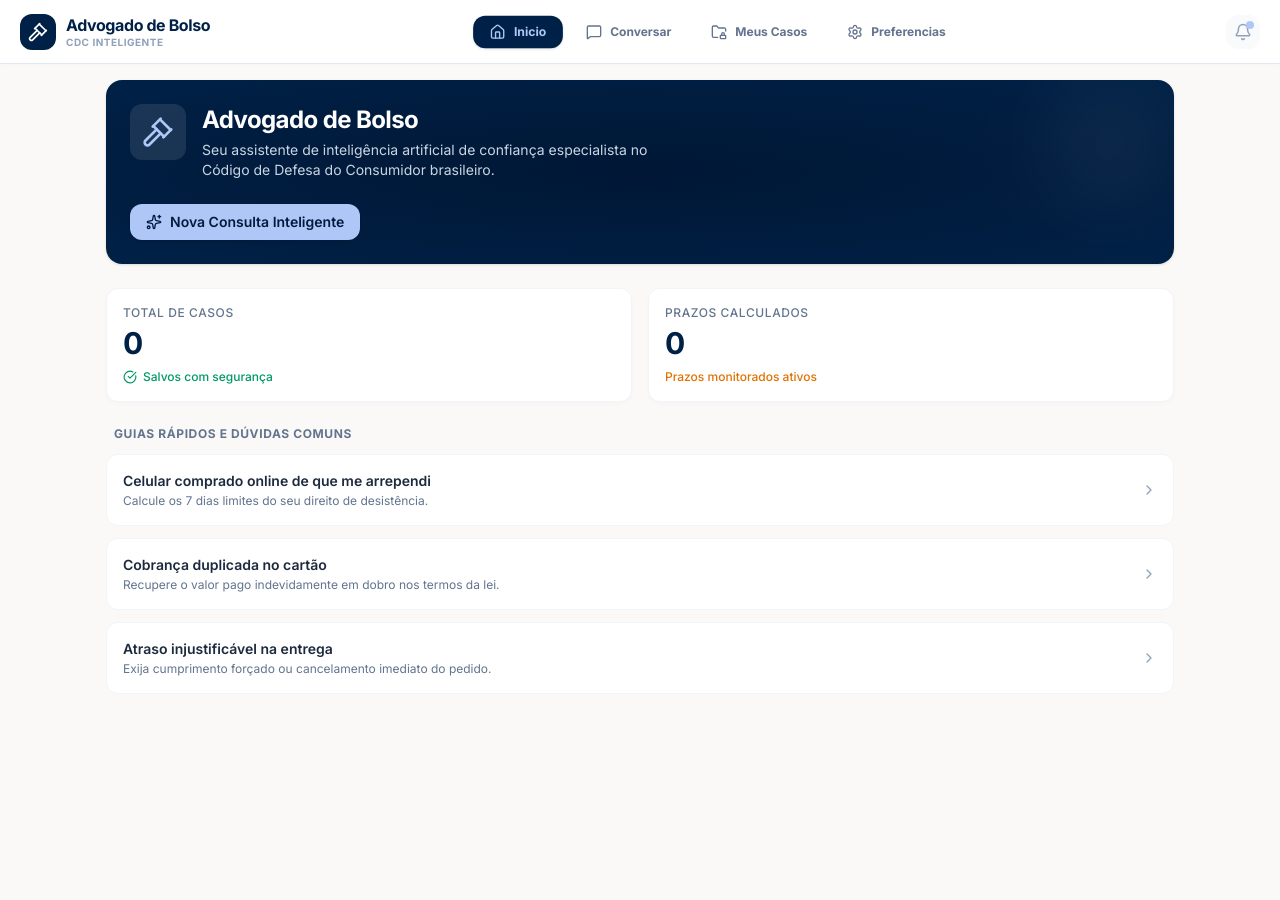
Test: App frontend integration › starting a quick-guide consultation while a real case is active creates a new session without mutating the active case
The image size is (1280, 900).
Click the button "Conversar": (629, 32) [570,16,687,48]
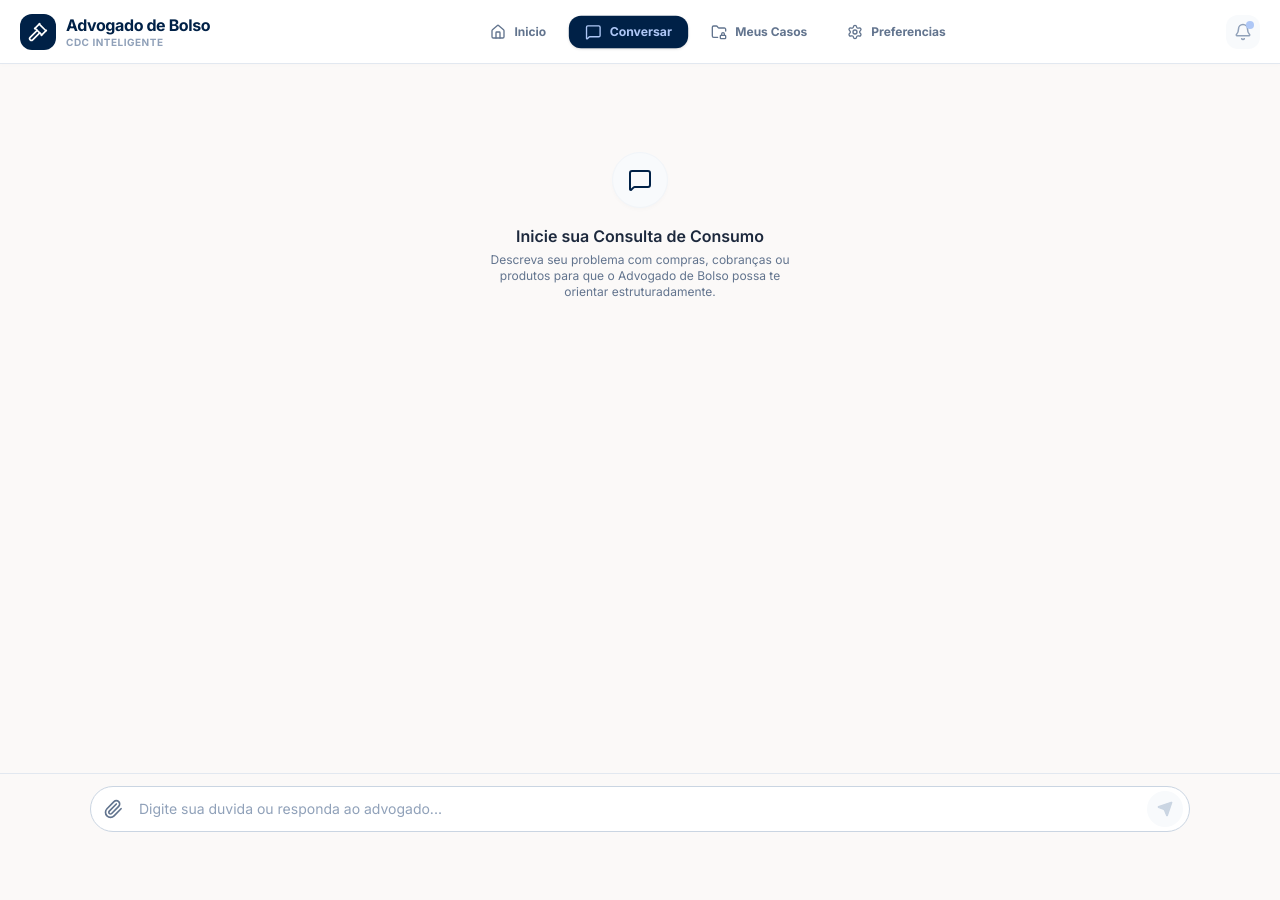
expect the heading "Inicie sua Consulta de Consumo" is shown: met, box [516,224,764,248]
In the field with placeholder "Digite sua duvida ou responda ao advogado...": (641, 809) [135,787,1147,831], type "Fui cobrado duas vezes pelo mesmo produto."
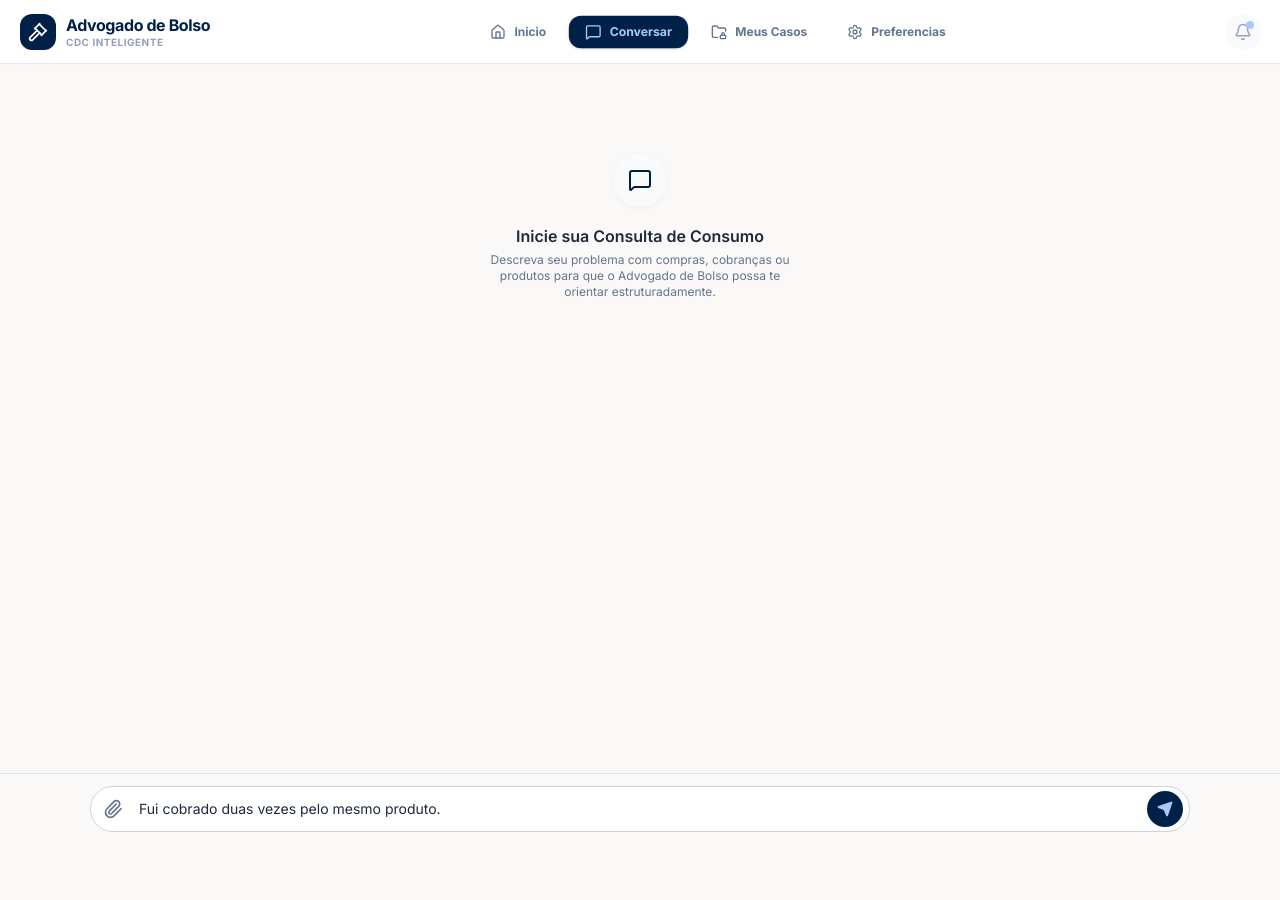
expect the button with id "send-button-click" is shown: met
Click the button with id "send-button-click": (1165, 809) [1147,791,1183,827]
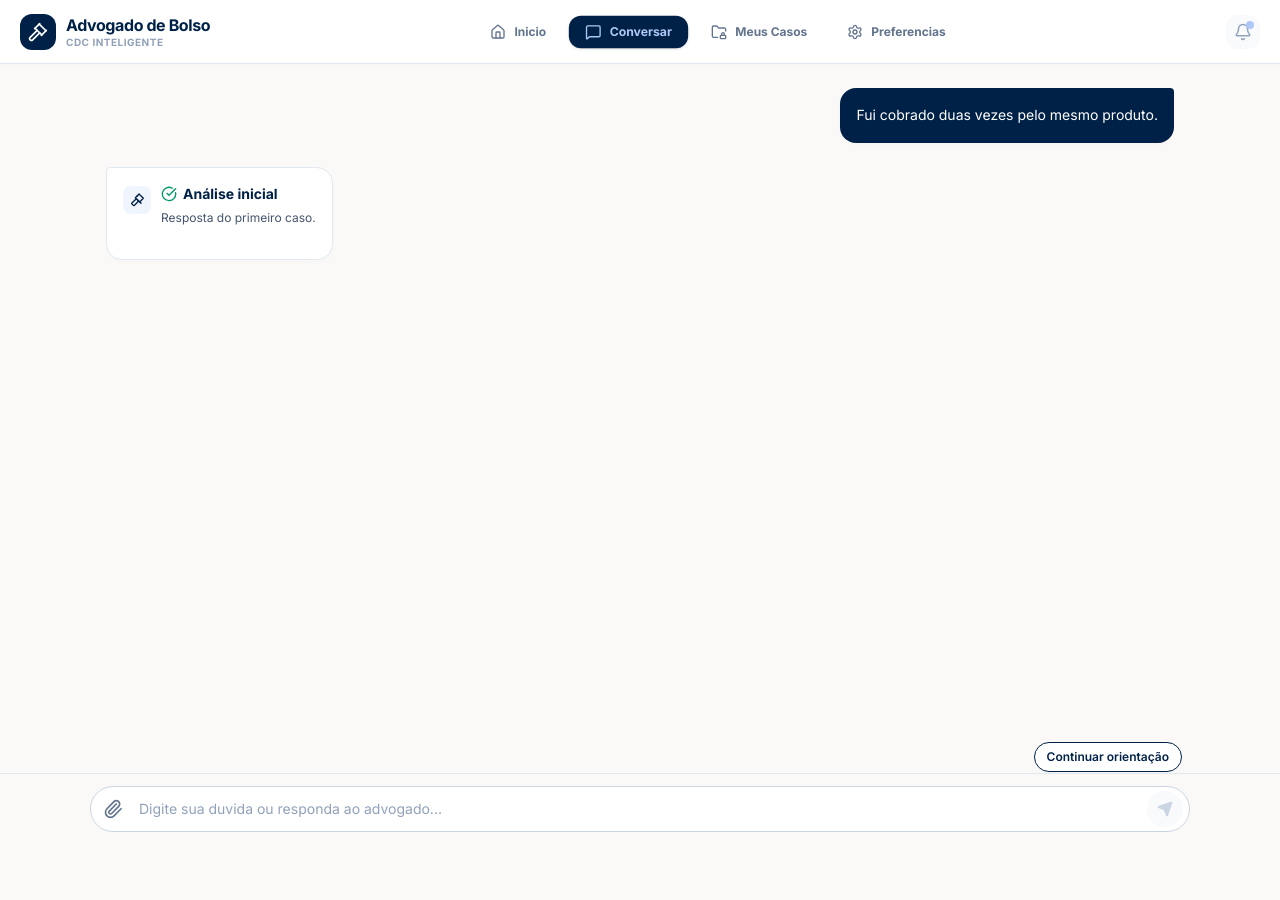
Click the button "Inicio": (518, 32) [474,16,562,48]
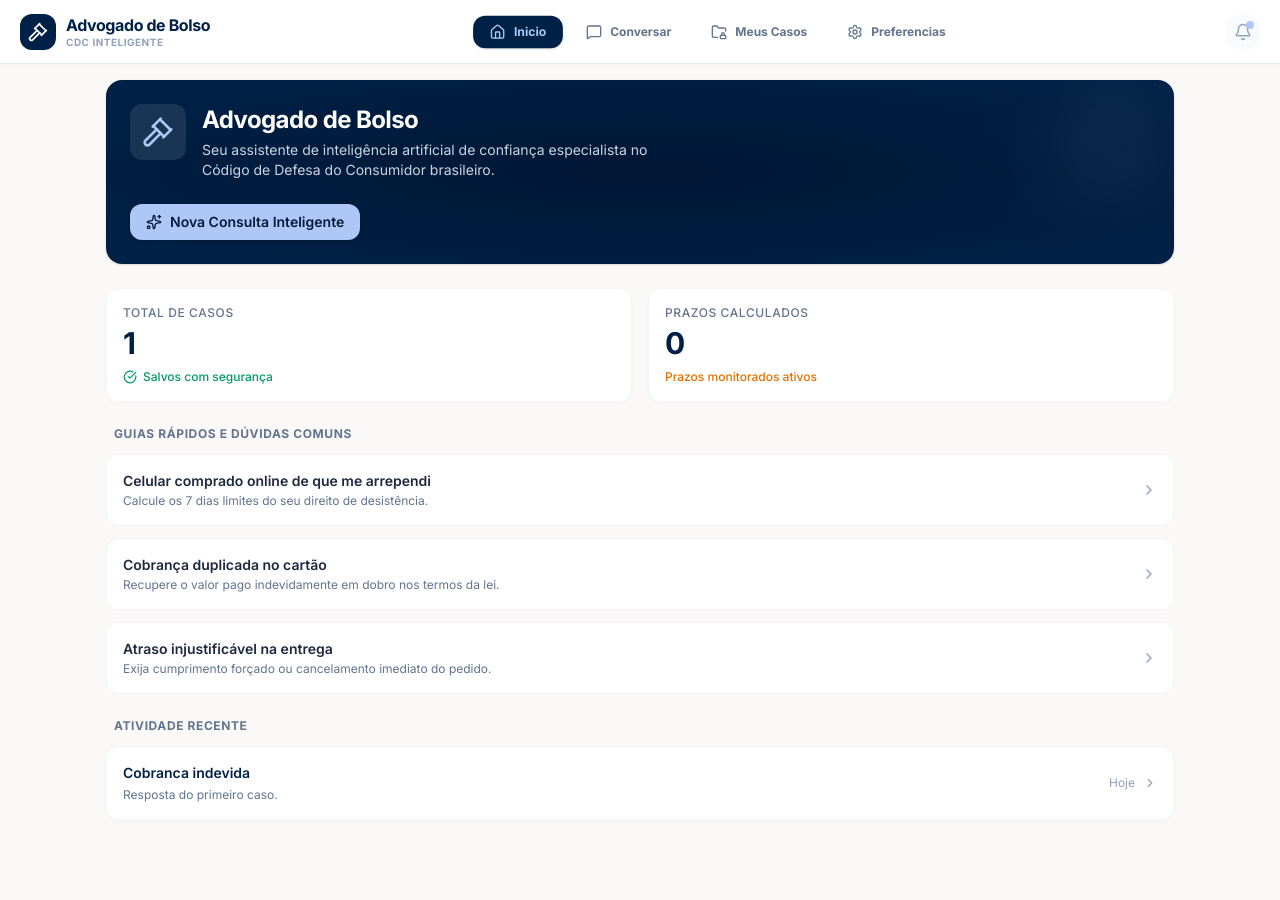
Click the button "Celular comprado online de que me arrependi": (277, 480) [106,454,1174,526]
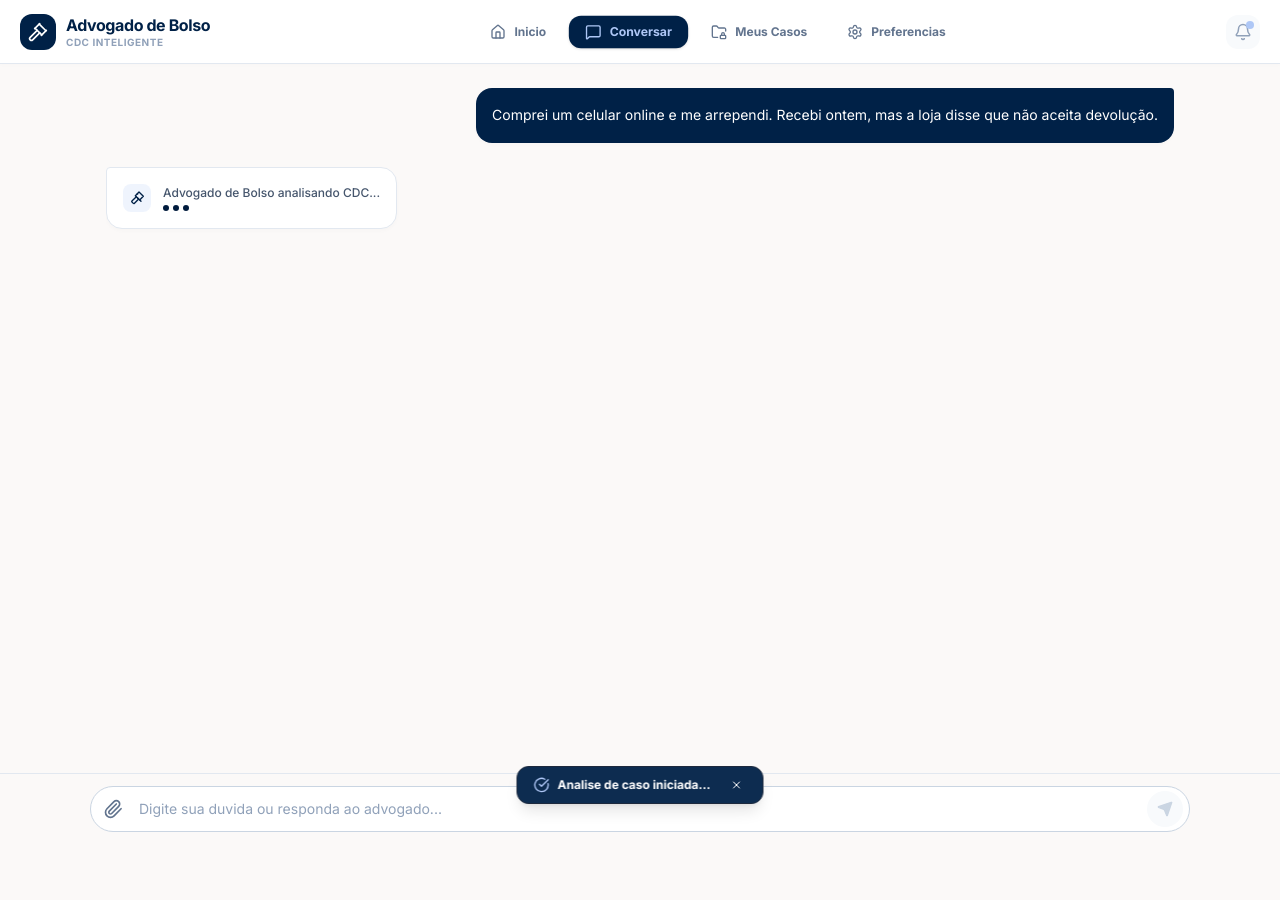
Click the button "Meus Casos": (759, 32) [695,16,823,48]
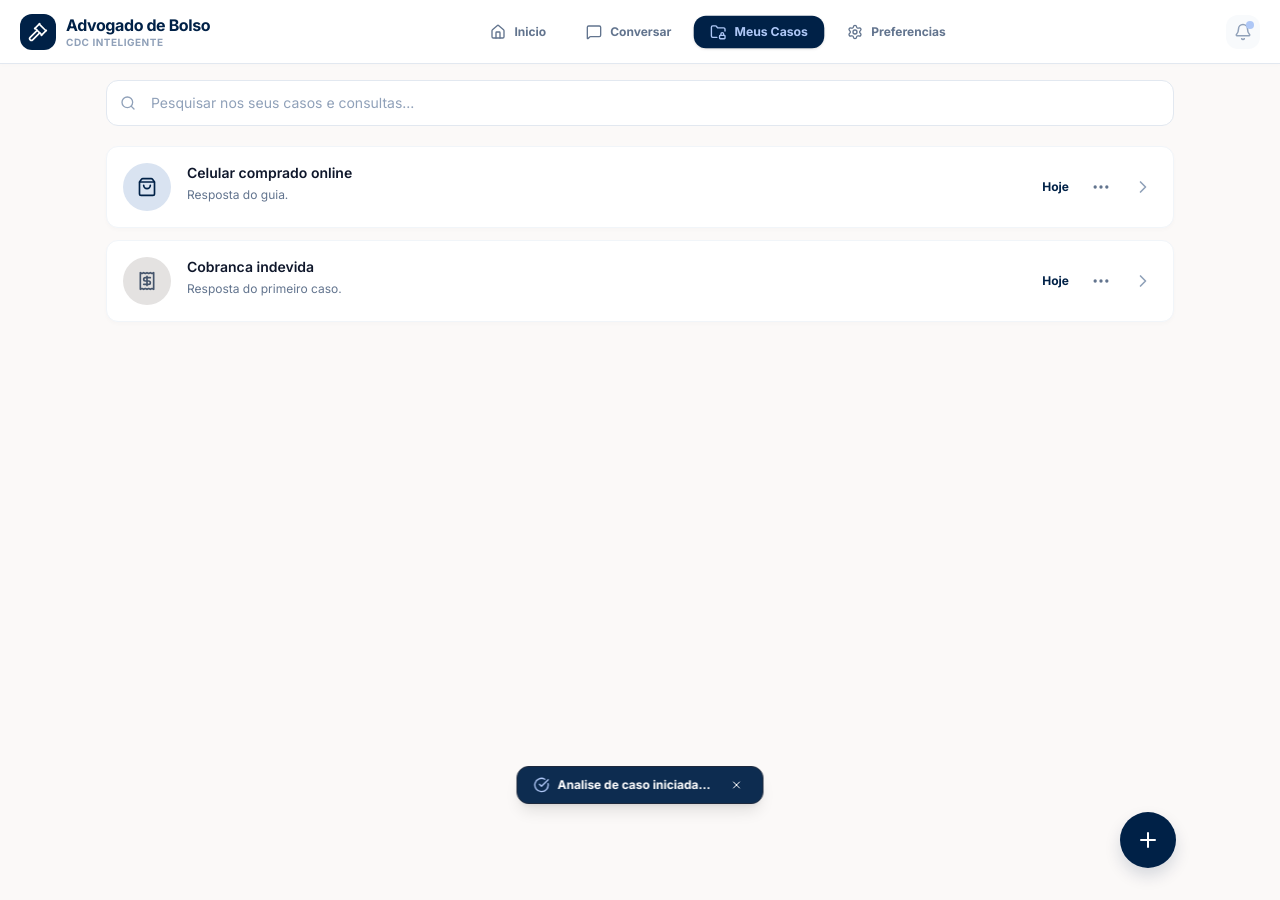
expect the heading "Cobranca indevida" is shown: met, box [187,258,314,275]
expect the heading "Celular comprado online" is shown: met, box [187,164,352,181]
expect the text "Resposta do primeiro caso." is shown: met, box [187,281,342,296]
